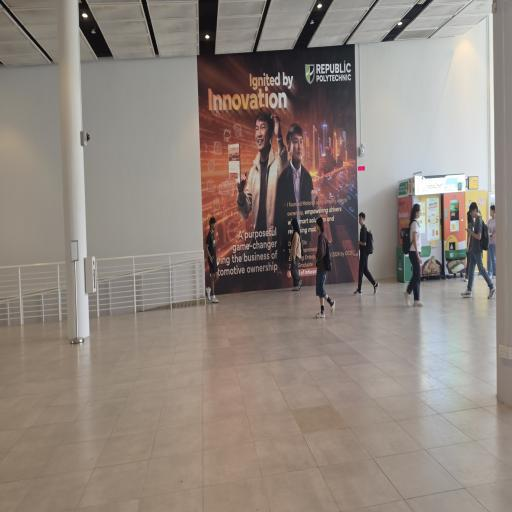person_left: (351, 206, 382, 299), (468, 203, 494, 301), (314, 218, 338, 322), (287, 214, 306, 293)
person_right: (399, 196, 427, 310), (202, 214, 224, 309)
